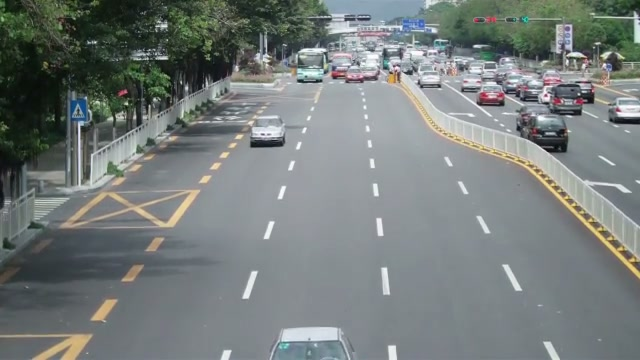car: (268, 326, 357, 360), (528, 114, 569, 152), (249, 115, 287, 148), (548, 84, 584, 116), (607, 97, 640, 123), (477, 83, 505, 106), (503, 74, 528, 94), (418, 69, 441, 89), (575, 81, 595, 103), (461, 76, 483, 92), (346, 67, 365, 83)
truck: (296, 48, 327, 83)
